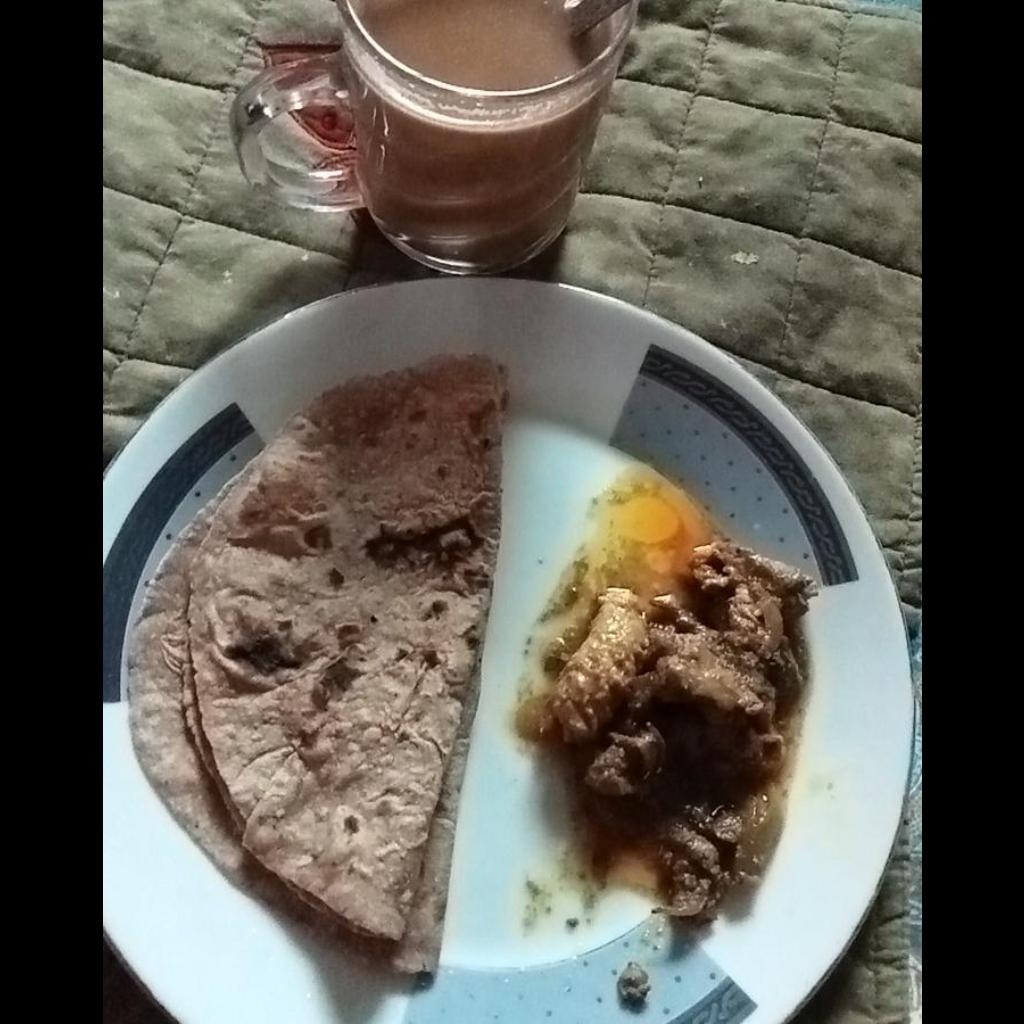cha: (362, 5, 607, 85)
chicken: (510, 542, 822, 924)
ruti: (128, 356, 506, 975)
